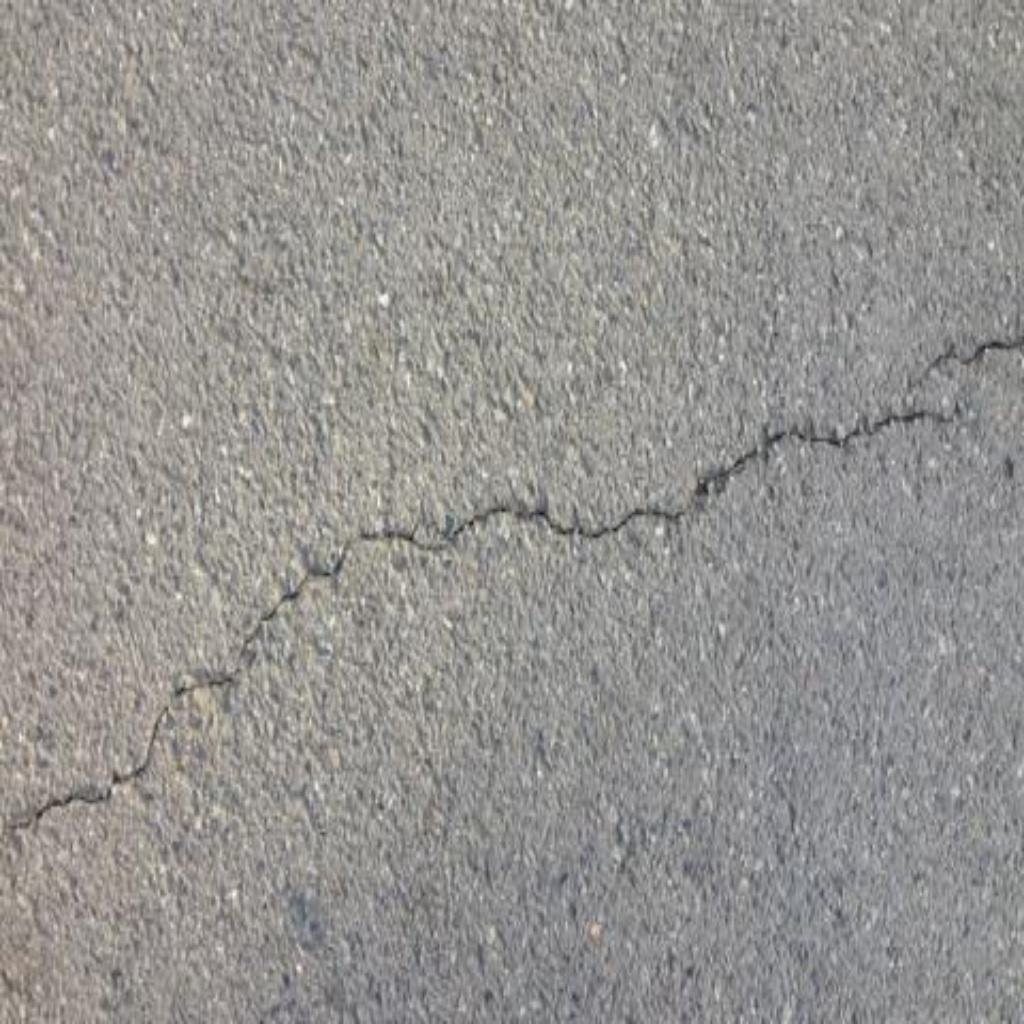Crack: (1, 410, 949, 833), (907, 339, 1024, 396)
